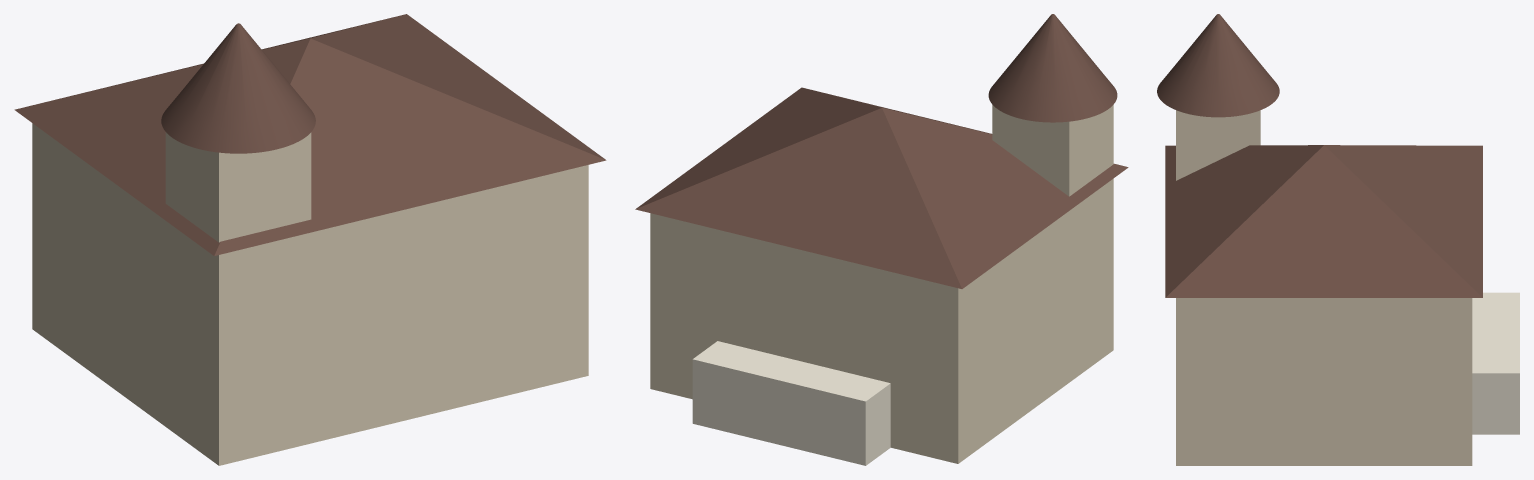
The model's file is d-ce-03-riverside-villa.glb.
3 renders of one model, left to right at view 1: azimuth 30°, elevation 25°; view 2: azimuth 150°, elevation 25°; view 3: azimuth 270°, elevation 25°, orthographic. The views are drawn at different scales.
Visible parts, largest first — view 1: part0, part1, part3, part2; view 2: part0, part1, part4, part3, part2; view 3: part0, part1, part3, part4, part2.
Boxes of the visible parts, x1,y1,x2,y2 form: part0: (32, 123, 588, 465); part1: (14, 14, 606, 255); part3: (161, 23, 315, 153); part2: (165, 132, 311, 242); part0: (650, 178, 1113, 463); part1: (635, 87, 1128, 288); part4: (692, 341, 890, 465); part3: (988, 14, 1117, 122); part2: (992, 105, 1113, 196); part0: (1176, 298, 1472, 465); part1: (1165, 145, 1482, 297); part3: (1157, 14, 1279, 117); part4: (1472, 292, 1519, 434); part2: (1176, 110, 1260, 180).
Bounding box in the file's own units: 17396 × 17000 × 17149.
